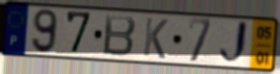7: (65, 9, 93, 56), (187, 16, 212, 65)
9: (30, 7, 60, 54)
B: (101, 13, 138, 59)
J: (217, 19, 249, 68)
K: (141, 16, 170, 61)
